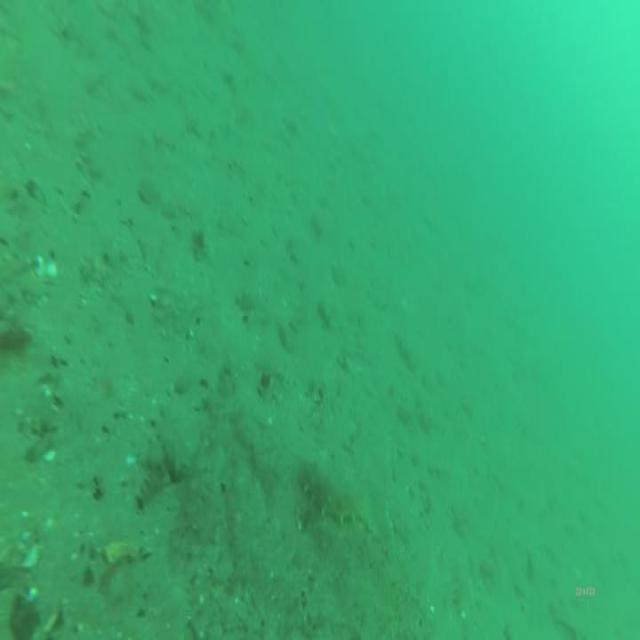holothurian: (298, 454, 364, 530)
